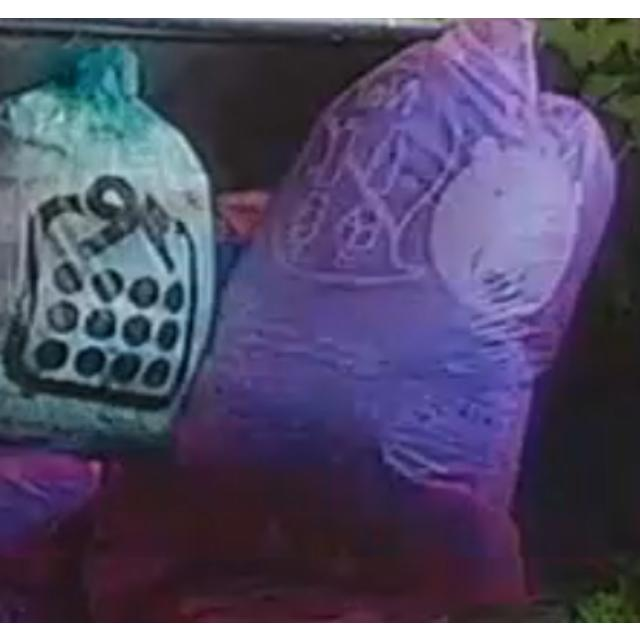general_trashbag: (0, 44, 212, 438)
other_trashbag: (162, 20, 615, 619)
